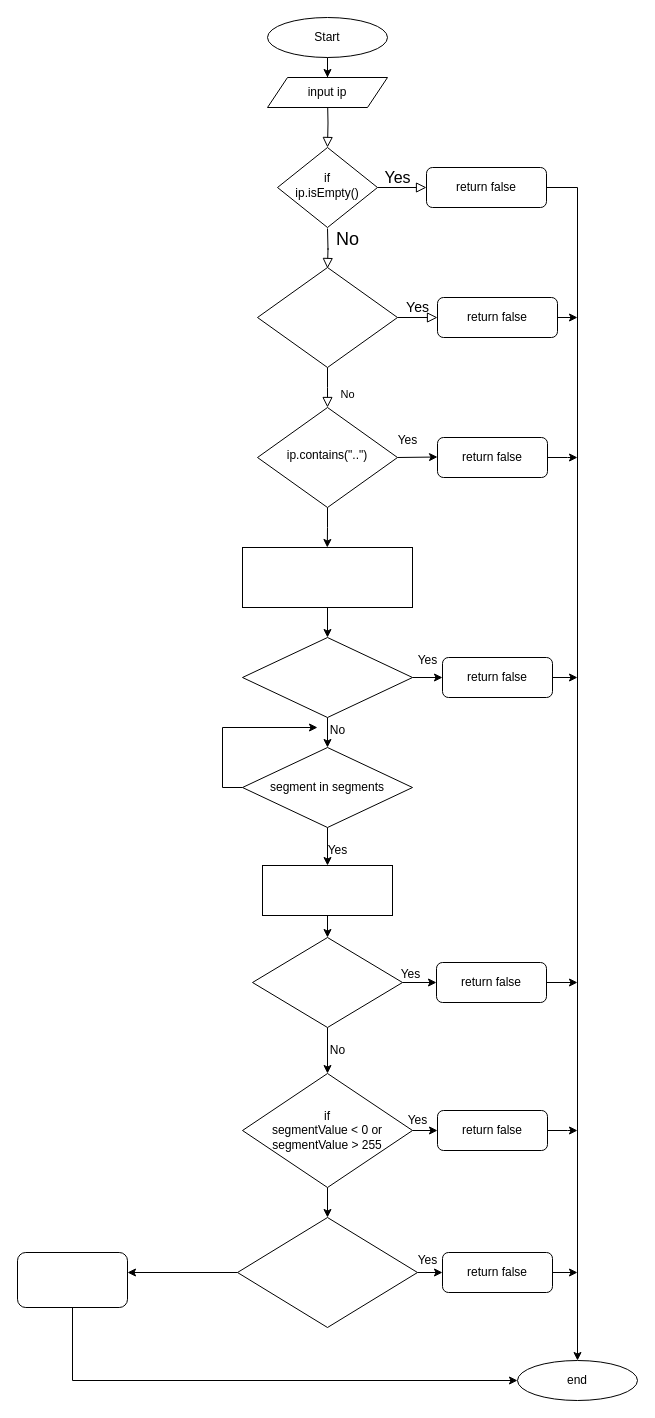
This 655x1418 diagram has some shape labels left out. The shapes that lost their labels are listed below. From the top down, each one's centre as x and y in pixels, then its label:
[327,317]: if ip.startsWith('.') or ip.endsWith('.)
[327,577]: segments = ip.split(".")
[327,677]: if segment.size != 4
[327,890]: segmentValue = segment.toIntOrNull
[327,982]: if segmentValue == null
[72,1280]: return true
[327,1272]: if segment != "0" and segment.srtartsWith('0')
